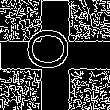O_E: (30, 34, 80, 76)
